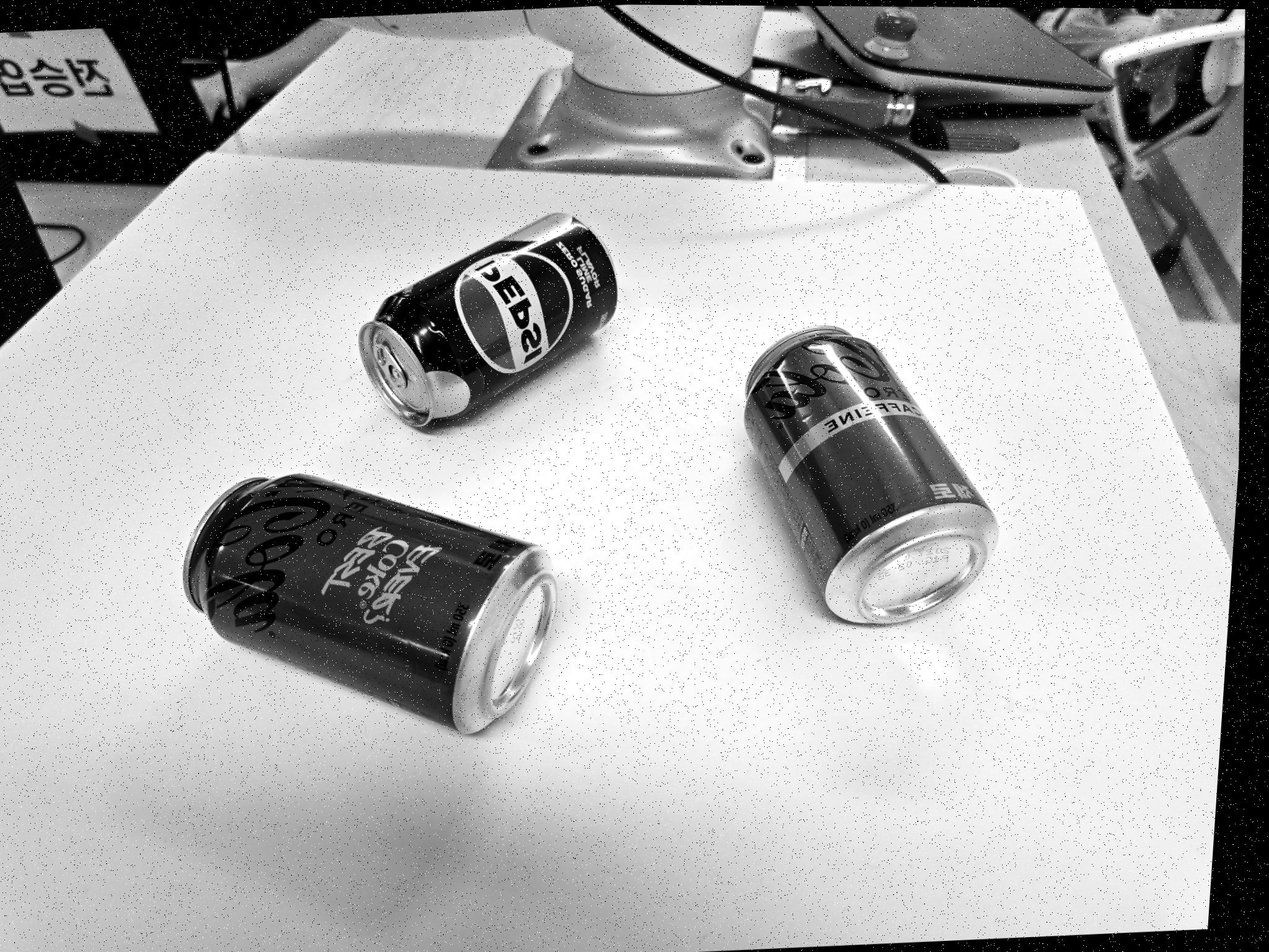can_coke_decaf: (736, 323, 1004, 630)
can_coke_zero: (176, 469, 565, 744)
can_pepsi_zero: (360, 213, 625, 438)
